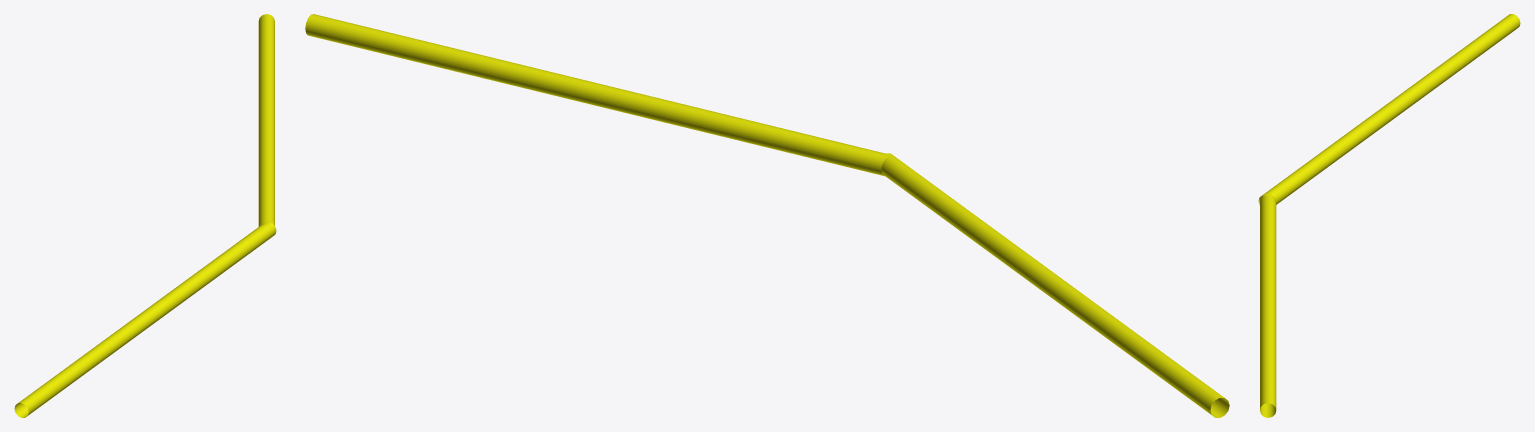
Rendered from truba.dae.
The picture shows the model from 3 angles, left to right: view 1: azimuth 90°, elevation 25°; view 2: azimuth 150°, elevation 25°; view 3: azimuth 270°, elevation 25°; orthographic projection. The views are drawn at different scales.
Parts seen in each view (by area): view 1: NurbsPath.001, NurbsPath; view 2: NurbsPath, NurbsPath.001; view 3: NurbsPath.001, NurbsPath.
Boxes of the visible parts, left/top/right/bottom form: NurbsPath.001: left=14, top=221, right=276, bottom=417; NurbsPath: left=258, top=14, right=274, bottom=226; NurbsPath: left=305, top=14, right=888, bottom=176; NurbsPath.001: left=881, top=153, right=1229, bottom=417; NurbsPath.001: left=1258, top=14, right=1520, bottom=205; NurbsPath: left=1260, top=193, right=1276, bottom=417.
Bounding box in the file's own units: 22.39 × 6.35 × 0.4.
